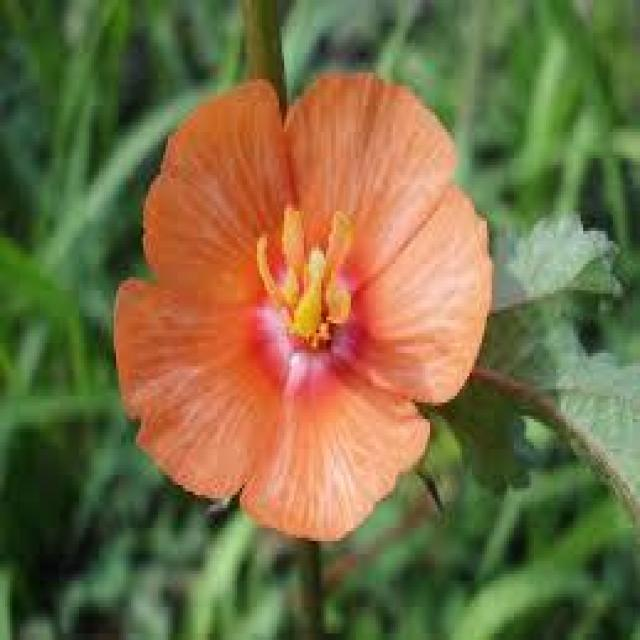organic waste: (100, 55, 508, 542)
